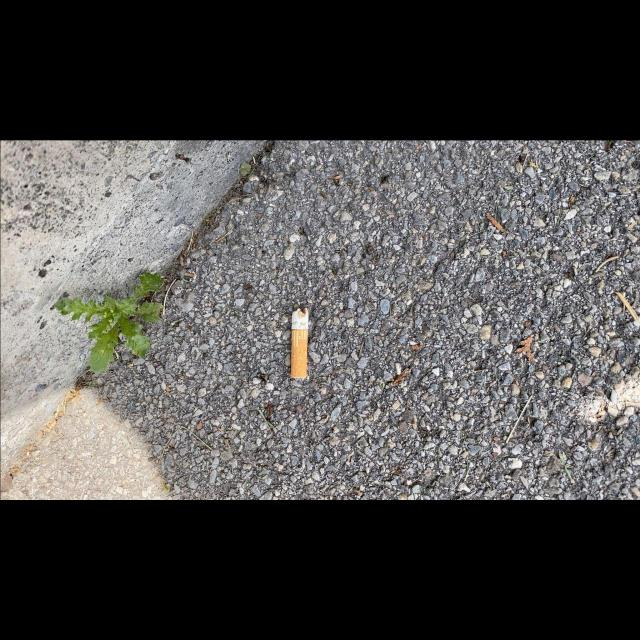cigarette: (290, 304, 309, 380)
